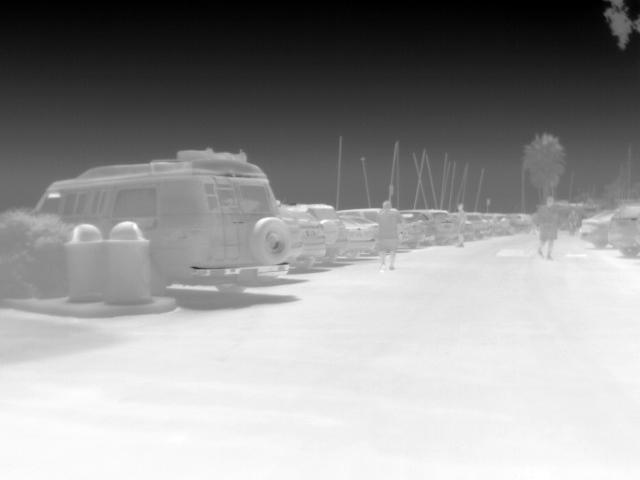car: (35, 156, 297, 296), (293, 204, 349, 262), (281, 204, 328, 268), (603, 204, 640, 260), (403, 207, 454, 247), (336, 214, 378, 260), (582, 207, 615, 250), (337, 206, 382, 225), (468, 212, 492, 239), (507, 212, 533, 233), (490, 212, 511, 234)
person: (375, 197, 403, 272), (531, 198, 562, 260), (453, 204, 468, 250)
